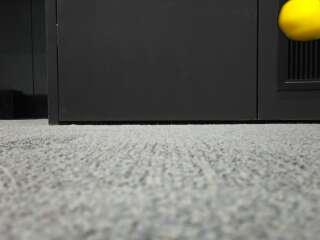lemon: (279, 1, 320, 41)
